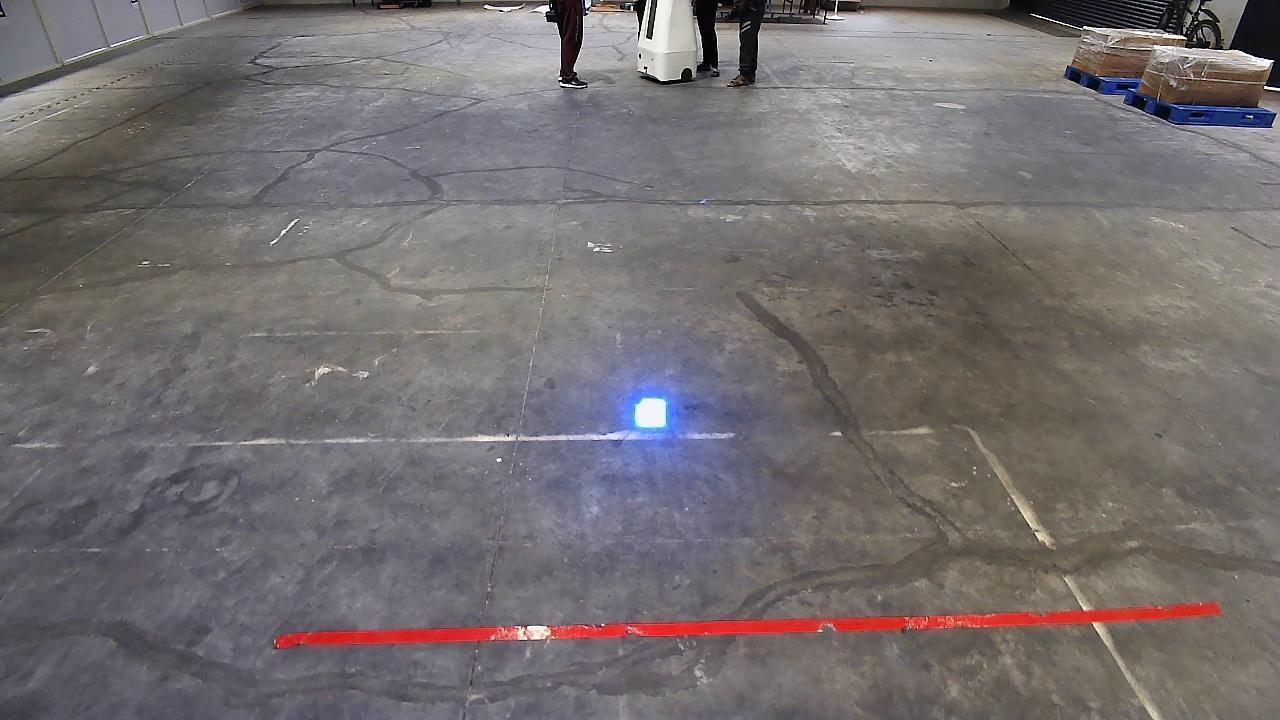red_line: (270, 608, 1222, 642)
